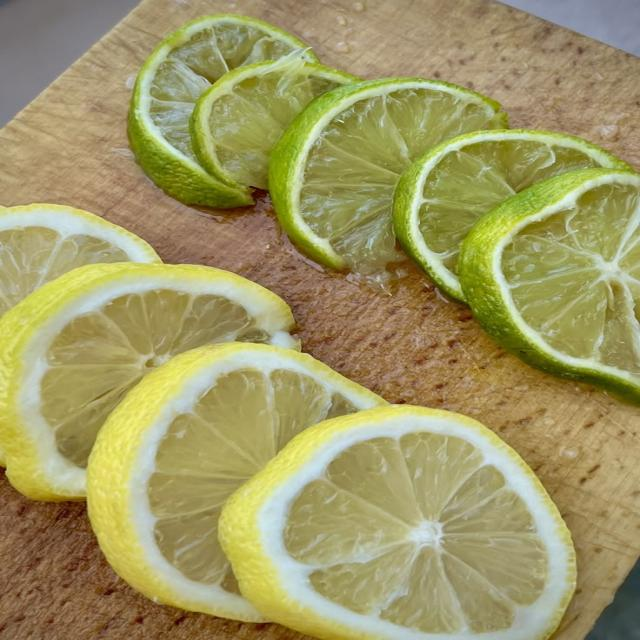lemon: (220, 406, 575, 639), (87, 344, 384, 621), (0, 263, 297, 500), (269, 79, 506, 274), (459, 169, 639, 402), (394, 130, 629, 301), (128, 15, 306, 208), (191, 51, 359, 189), (0, 204, 159, 315)
